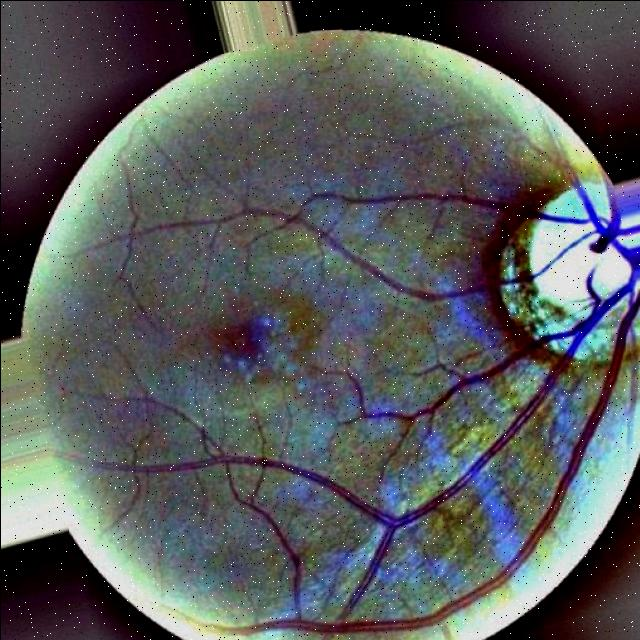Macula: (194, 298, 292, 389)
Nerves: (82, 277, 632, 640), (103, 204, 594, 301), (292, 188, 638, 263)
Optic Disk: (497, 185, 640, 361)
